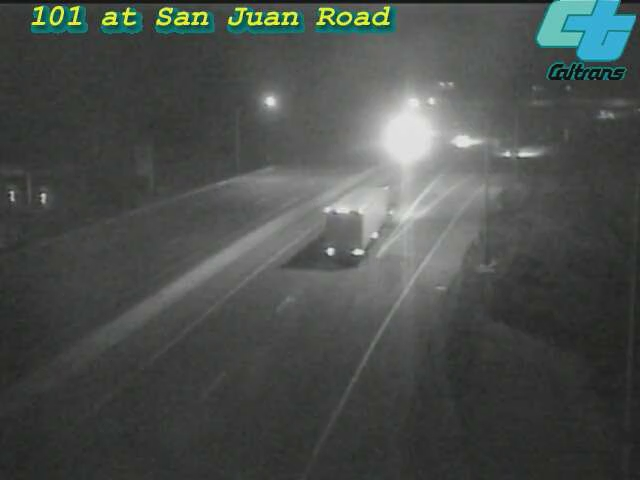vehicle: (326, 180, 406, 260), (380, 112, 430, 162), (584, 89, 634, 139), (438, 116, 488, 166), (490, 128, 540, 178)
